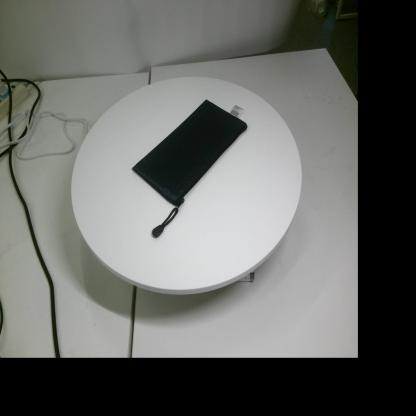Stationery: (132, 100, 248, 238)
